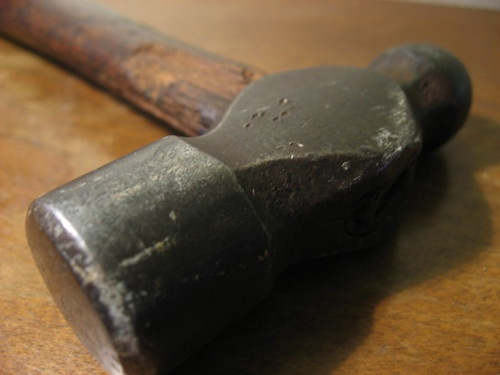hammer: (1, 1, 473, 370)
